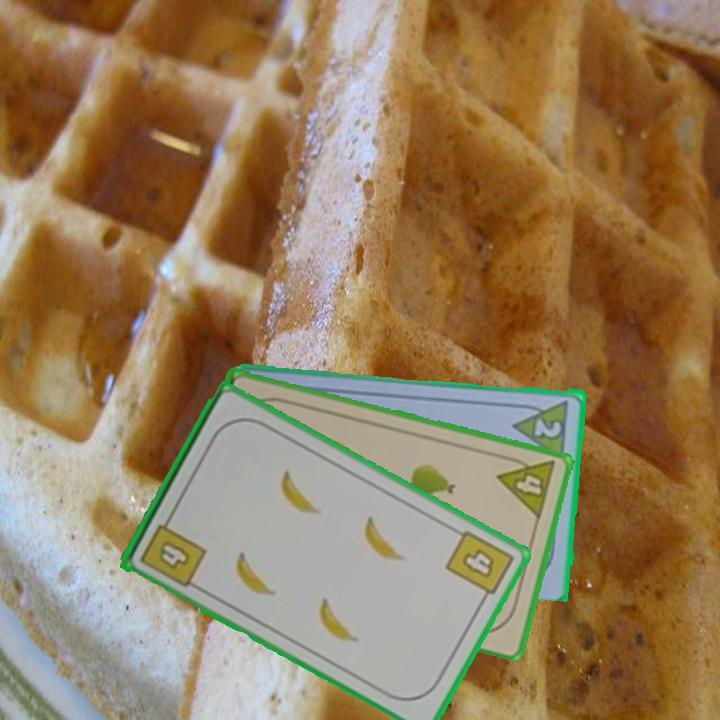2p: (511, 396, 572, 460)
4b: (441, 526, 517, 607), (136, 511, 210, 590)
4p: (494, 450, 558, 522)
